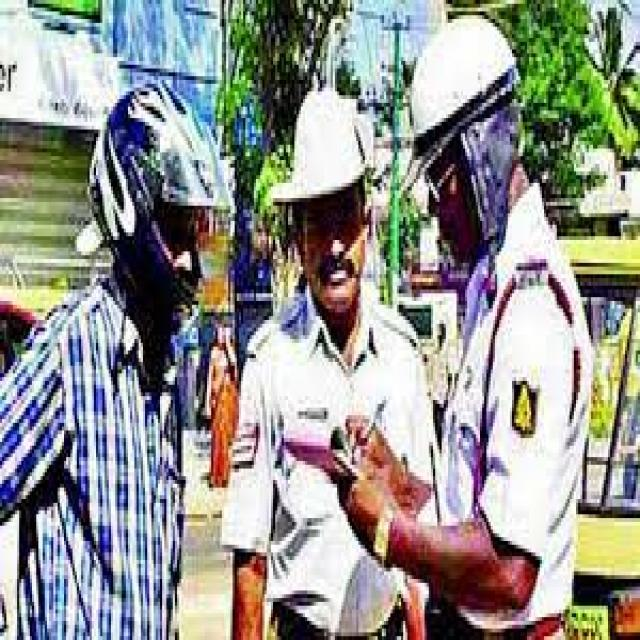Reflective-Jacket: (224, 297, 431, 640)
Safety-Helmet: (269, 76, 384, 217), (403, 12, 521, 148)
